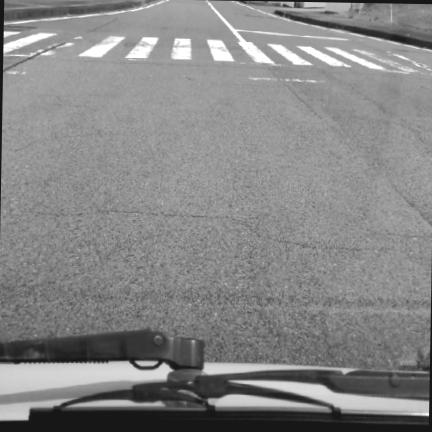Road: (0, 0, 431, 368)
